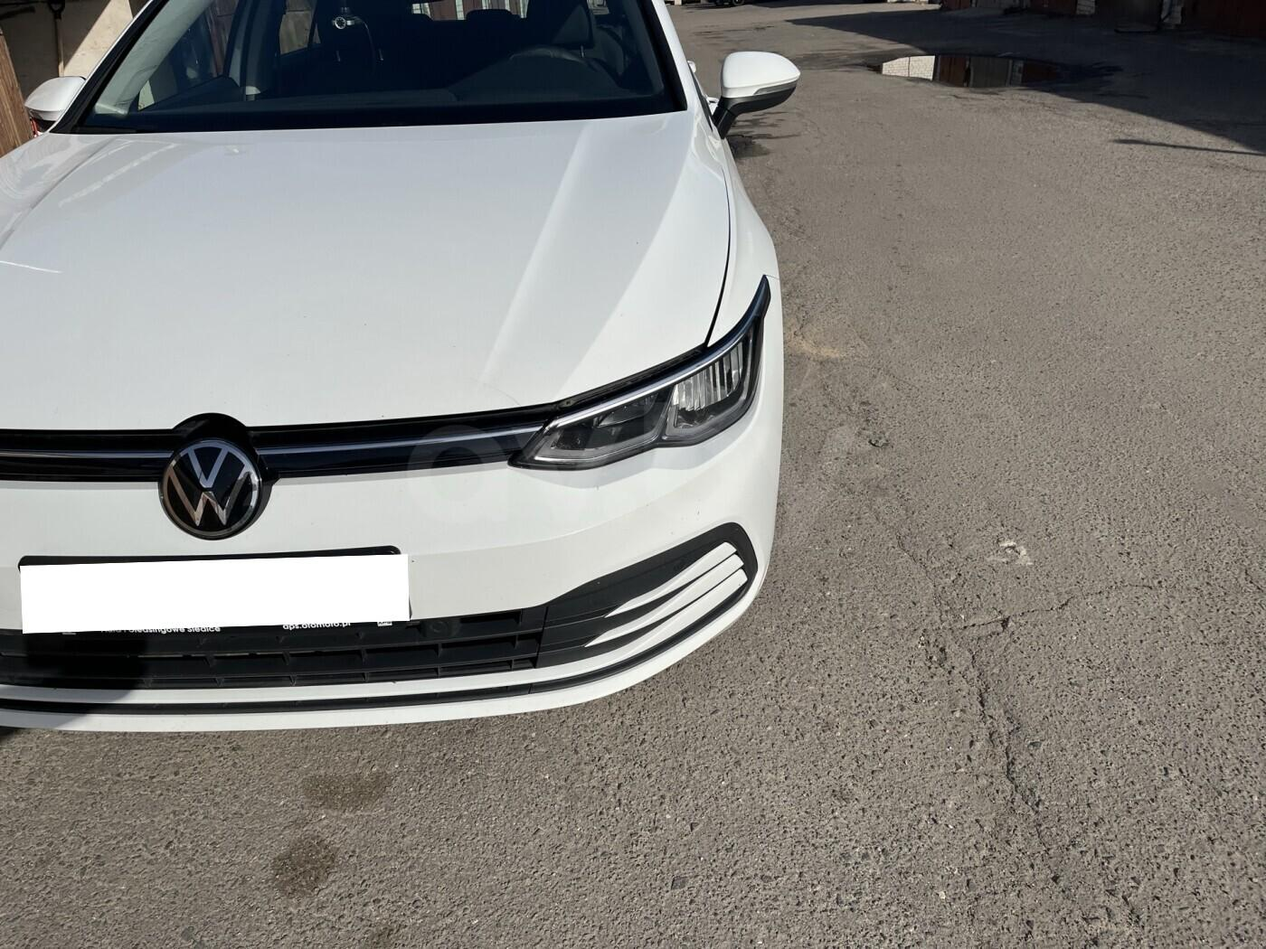Golf_2019: (0, 0, 814, 724)
